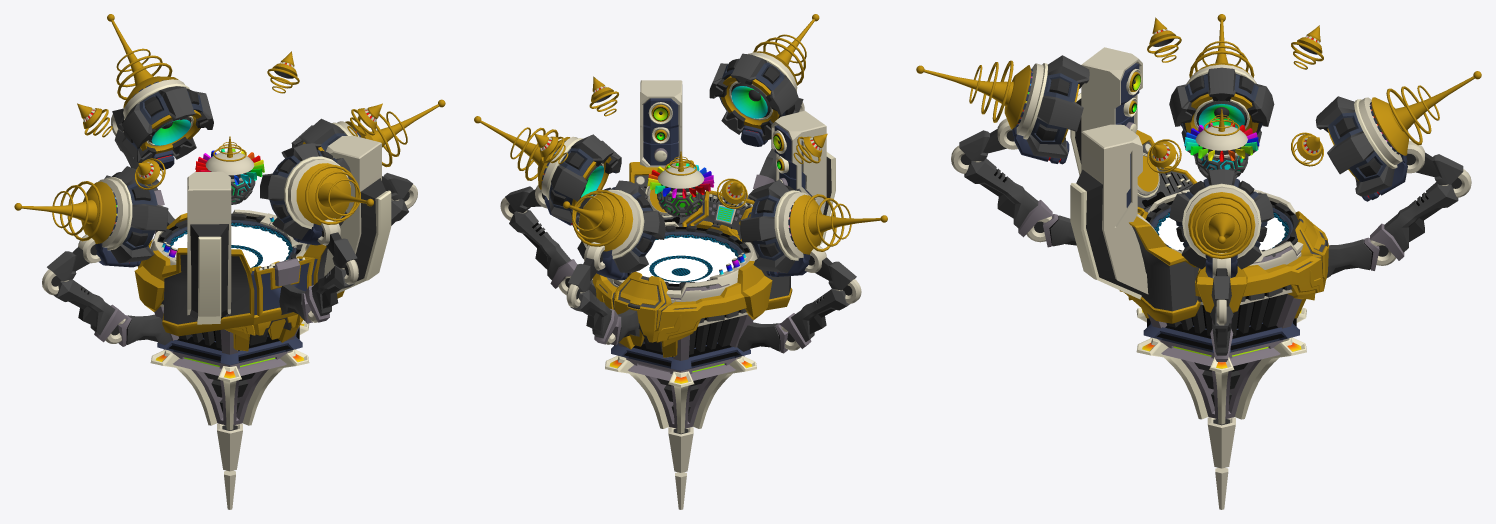
Rendered from arena_substrike.fbx.
The picture shows the model from 3 angles, left to right: view 1: azimuth 30°, elevation 25°; view 2: azimuth 150°, elevation 25°; view 3: azimuth 270°, elevation 25°; orthographic projection. The views are drawn at different scales.
Visible parts, largest first — view 1: Arena_Main, FX_MOD_GlassFloor, DiscoTopper, LargeSpeakerColor2, FX_MOD_GridFloor; view 2: Arena_Main, FX_MOD_GlassFloor, Disco_Ball, DiscoTopper, FX_MOD_GridFloor, LargeSpeakerColor; view 3: Arena_Main, FX_MOD_GlassFloor, DiscoTopper, Disco_Ball, LargeSpeakerColor3.
Boxes of the visible parts, box(x1,y1,x2,y2) form: Arena_Main: box(14, 14, 445, 509); FX_MOD_GlassFloor: box(171, 226, 289, 267); DiscoTopper: box(195, 148, 264, 185); LargeSpeakerColor2: box(152, 119, 190, 145); FX_MOD_GridFloor: box(169, 223, 292, 268); Arena_Main: box(474, 14, 887, 509); FX_MOD_GlassFloor: box(636, 237, 737, 283); Disco_Ball: box(657, 190, 705, 217); DiscoTopper: box(647, 163, 714, 198); FX_MOD_GridFloor: box(649, 234, 738, 282); LargeSpeakerColor: box(731, 86, 767, 118); Arena_Main: box(916, 14, 1481, 509); FX_MOD_GlassFloor: box(1158, 217, 1285, 250); DiscoTopper: box(1184, 123, 1259, 161); Disco_Ball: box(1194, 152, 1248, 178); LargeSpeakerColor3: box(1198, 104, 1244, 128).
Bounding box in the file's own units: 75.3 × 70.09 × 79.85.
